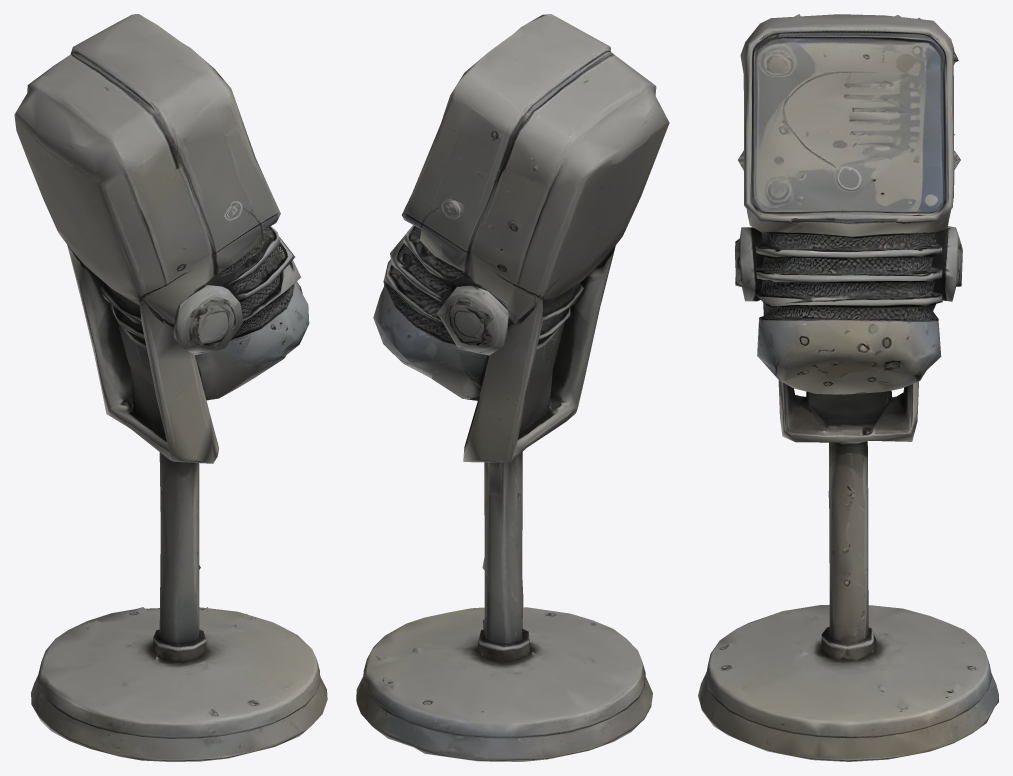
Rendered from broadcast-mic.glb.
The picture shows the model from 3 angles, left to right: view 1: azimuth 30°, elevation 25°; view 2: azimuth 150°, elevation 25°; view 3: azimuth 270°, elevation 25°; orthographic projection.
Parts seen in each view (by area): view 1: tripo_node_88051a7a-ab36-46ee-8040-cf008940b354; view 2: tripo_node_88051a7a-ab36-46ee-8040-cf008940b354; view 3: tripo_node_88051a7a-ab36-46ee-8040-cf008940b354.
Boxes of the visible parts, x1=… form: tripo_node_88051a7a-ab36-46ee-8040-cf008940b354: x1=14, y1=14, x2=327, y2=761; tripo_node_88051a7a-ab36-46ee-8040-cf008940b354: x1=356, y1=14, x2=669, y2=761; tripo_node_88051a7a-ab36-46ee-8040-cf008940b354: x1=698, y1=14, x2=998, y2=761.
Size of the model in its own units: 0.4087 by 1 by 0.4057.
1 material, 1 textured.
